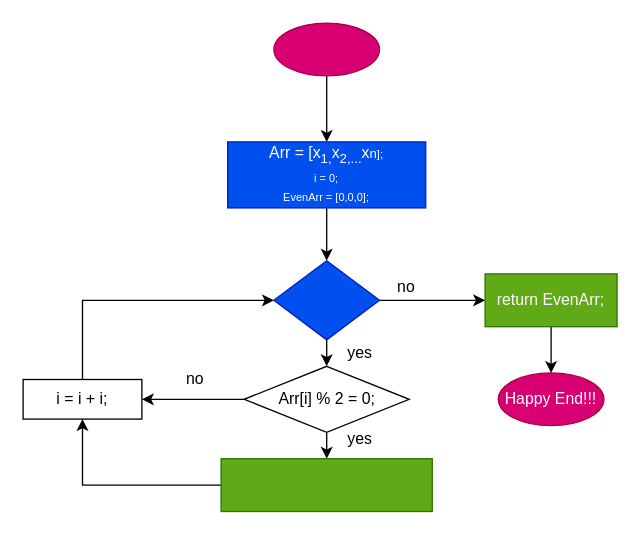
Image size: 640x535. Some labels were removed from this diagram. The shapes that lost their labels are listed below. From the top down, each one's box as (x1, y1, x2, y2) in pixels, then its label:
(273, 22, 380, 76): Start
(273, 259, 380, 340): i < n;
(220, 457, 432, 512): EvebArr[i] = Arr[i];
